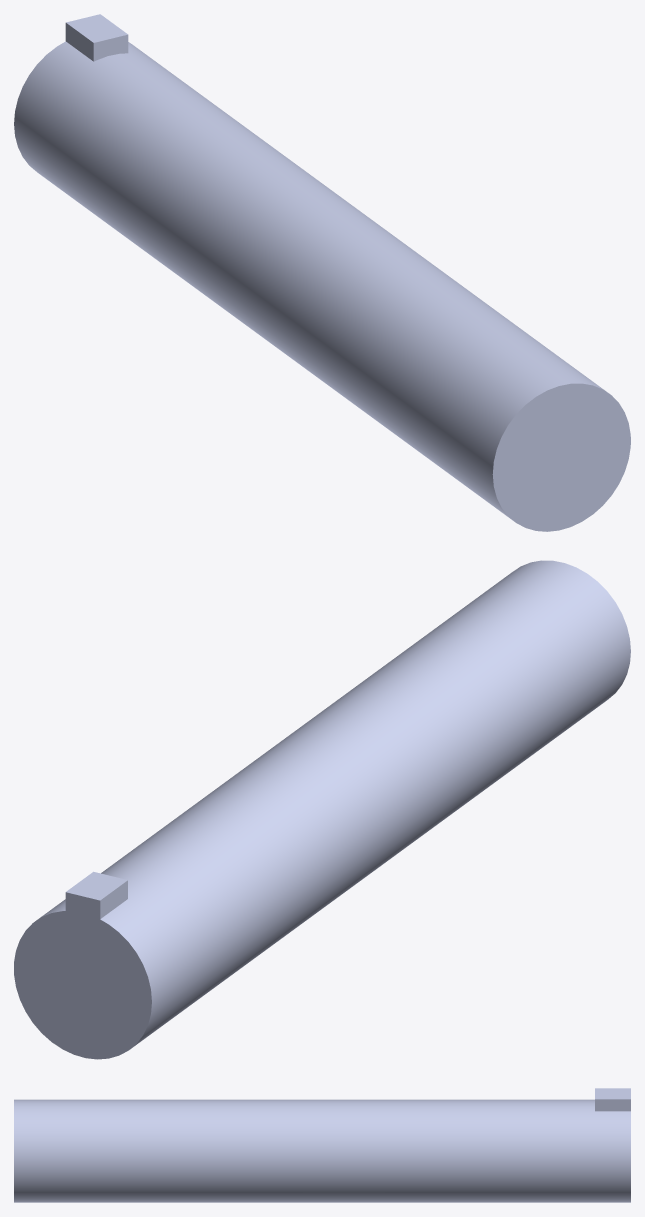
Rendered from Output_Shaft.glb.
3 views of the same model, one above another, from view 1: azimuth 30°, elevation 25°; view 2: azimuth 150°, elevation 25°; view 3: azimuth 270°, elevation 25° (orthographic). The views are drawn at different scales.
Visible parts, largest first — view 1: Output Shaft; view 2: Output Shaft; view 3: Output Shaft.
Boxes of the visible parts, box(x1,y1,x2,y2) form: Output Shaft: box(14, 14, 630, 531); Output Shaft: box(14, 560, 630, 1059); Output Shaft: box(14, 1088, 630, 1202).
Size of the model in its own units: 0.0254 by 0.0283 by 0.1524.
